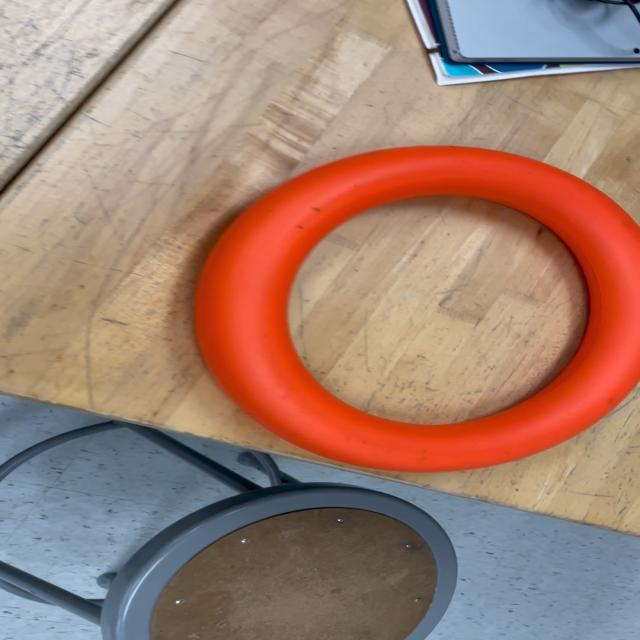note: (198, 144, 640, 468)
